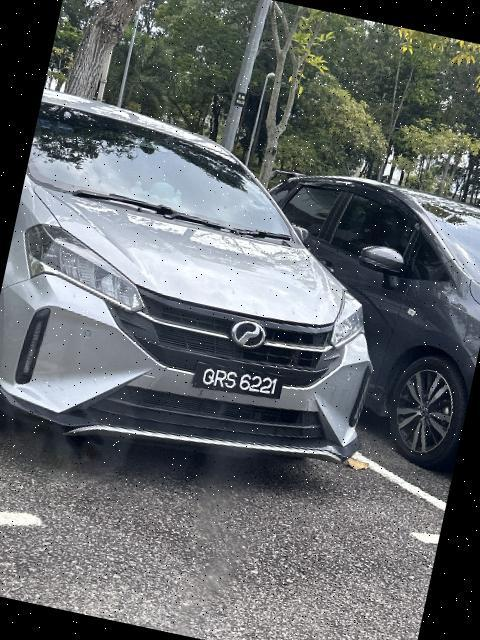License_Plate: (189, 355, 290, 410)
QRS6221: (189, 355, 290, 410)
car: (1, 75, 421, 496), (218, 150, 480, 468)
